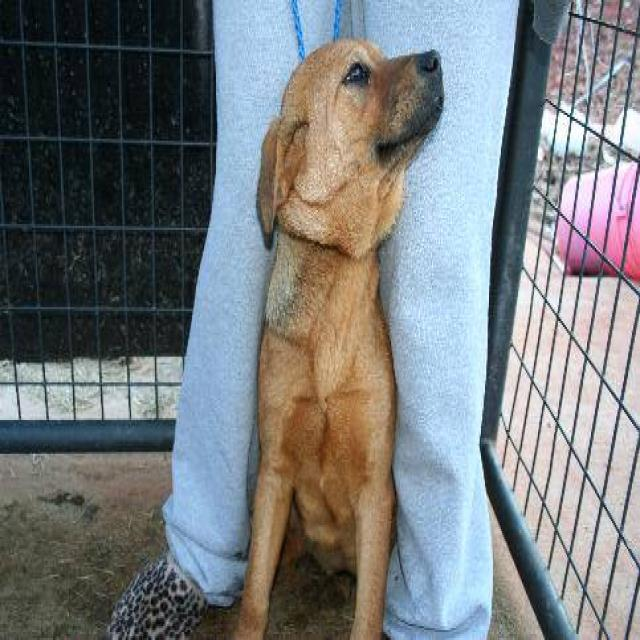dog: (222, 34, 446, 638)
